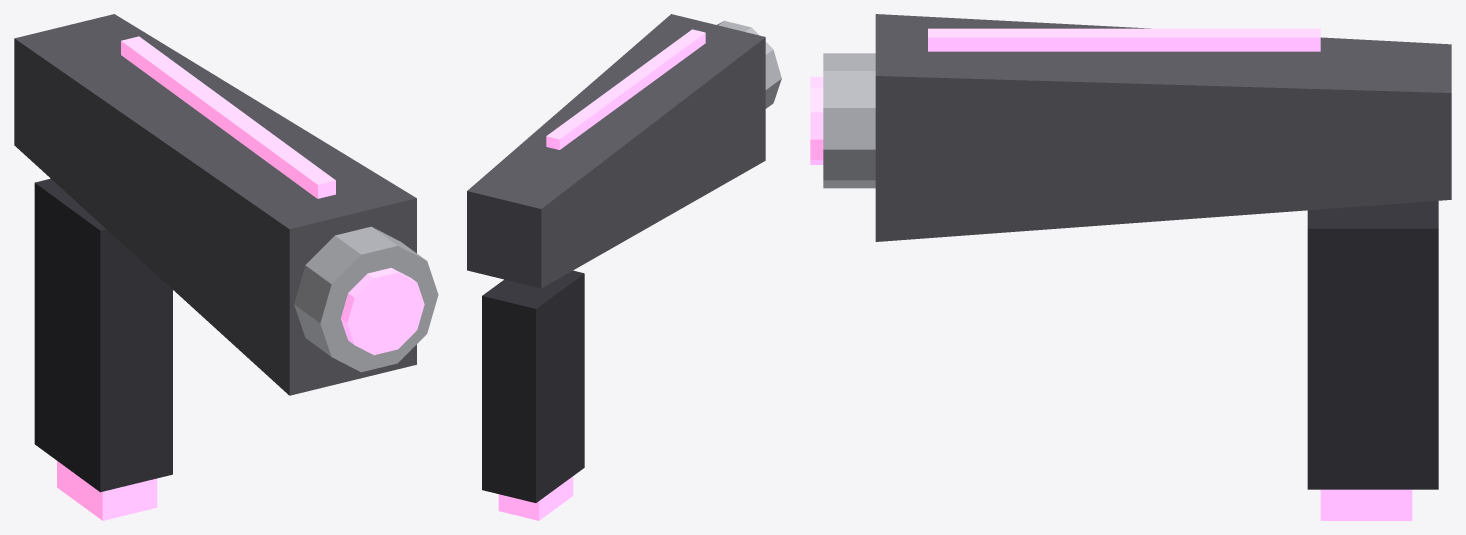
Rendered from weapon_F2_PlasmaPistol.glb.
3 renders of one model, left to right at view 1: azimuth 30°, elevation 25°; view 2: azimuth 150°, elevation 25°; view 3: azimuth 270°, elevation 25°, orthographic. The views are drawn at different scales.
Parts seen in each view (by area): view 1: Body, Mag; view 2: Body, Mag; view 3: Body, Mag.
Part boxes in pixels (x1,y1,x2,y2): Body: (14,14,438,492); Mag: (57,461,157,520); Body: (467,14,781,502); Mag: (498,476,573,520); Body: (810,14,1451,489); Mag: (1320,489,1412,520).
Bounding box in the file's own units: 0.056 × 0.2 × 0.245.
